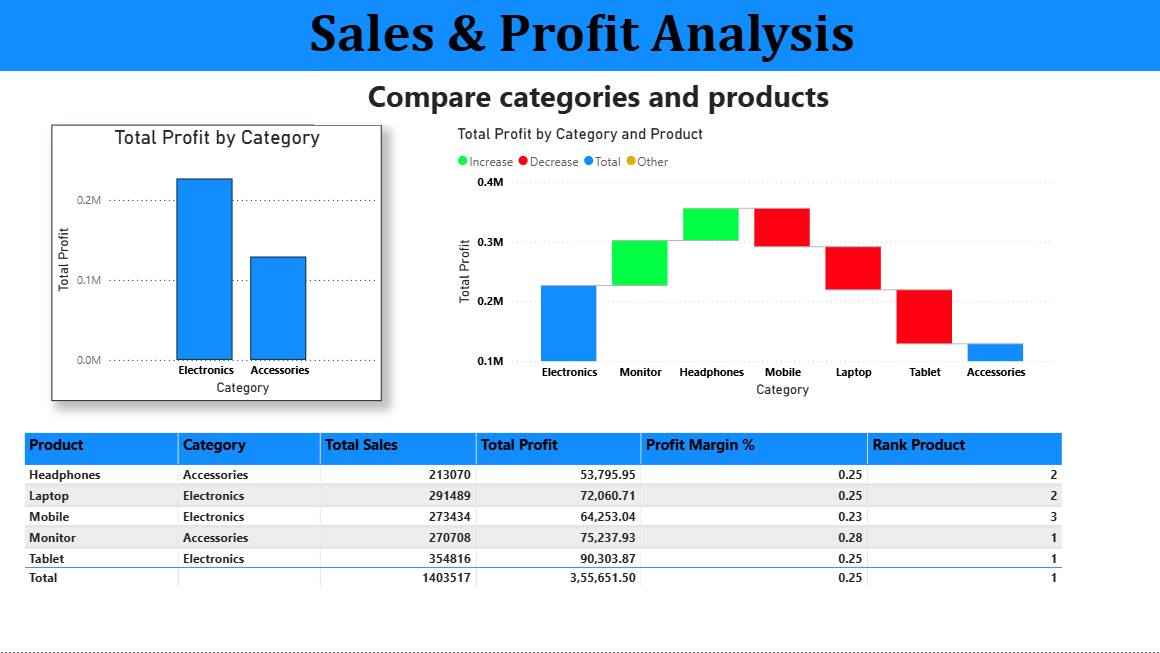

Layout of this report page (visuals, bound fields, positions):
{"tool":"powerbi","page":{"name":"Page 2","canvas":[1280,720],"ordinal":1},"visuals":[{"type":"columnChart","fields":{"Category":["Sales_Data.Category"],"Y":["Sales_Data.Total Profit"]},"box":[57.6,141.3,362.3,303.3],"z":0},{"type":"textbox","box":[0,0,1280.3,82.3],"z":1000},{"type":"textbox","box":[345.8,82.3,624.4,59],"z":2000},{"type":"tableEx","fields":{"Values":["Sales_Data.Product","Sales_Data.Category","Sales_Data.Total Sales","Sales_Data.Total Profit","Sales_Data.Profit Margin %","DateTable.Rank Product"]},"box":[22,474.8,1151.3,230.5],"z":3000},{"type":"waterfallChart","fields":{"Category":["Sales_Data.Category"],"Y":["Sales_Data.Total Profit"],"Breakdown":["Sales_Data.Product"]},"box":[498.1,141.3,664.2,303.3],"z":4000}]}

Visuals, with their boxes in screenshot pixels (x1, y1, x2, y2), scaled from the page's 1280x720 canvas onto the 1160x653 screenshot:
columnChart - Sales_Data.Category x Sales_Data.Total Profit: (52, 128, 381, 403)
textbox: (0, 0, 1159, 75)
textbox: (313, 75, 879, 128)
tableEx - Sales_Data.Product x Sales_Data.Category: (20, 431, 1063, 640)
waterfallChart - Sales_Data.Category x Sales_Data.Total Profit: (451, 128, 1053, 403)
